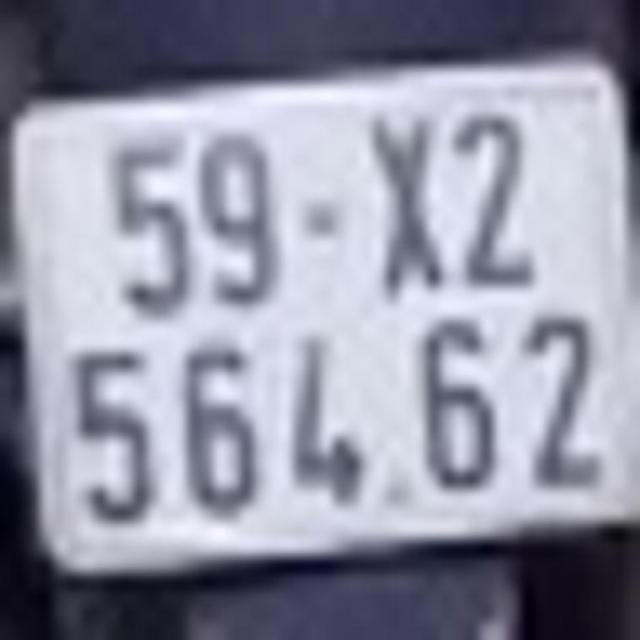2: (520, 313, 606, 489), (452, 114, 536, 289)
4: (289, 333, 362, 510)
5: (74, 350, 152, 524), (112, 145, 190, 314)
6: (181, 346, 256, 513), (423, 321, 496, 490)
9: (198, 137, 278, 306)
X: (368, 112, 445, 300)
